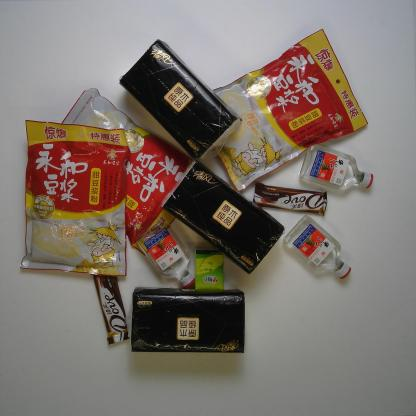Alcohol: (282, 214, 352, 281), (135, 220, 194, 290), (297, 144, 374, 193)
Chocolate: (90, 274, 130, 345), (253, 181, 328, 217)
Instant Drink: (209, 29, 369, 190), (60, 86, 190, 251), (21, 119, 131, 276)
Tissue: (118, 36, 242, 164), (160, 162, 284, 275), (129, 287, 246, 355), (194, 248, 224, 292)
